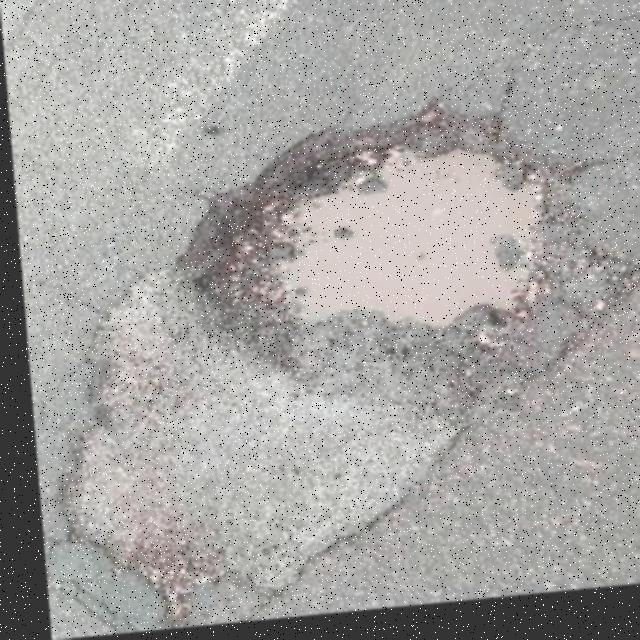pothole: (164, 99, 578, 387)
